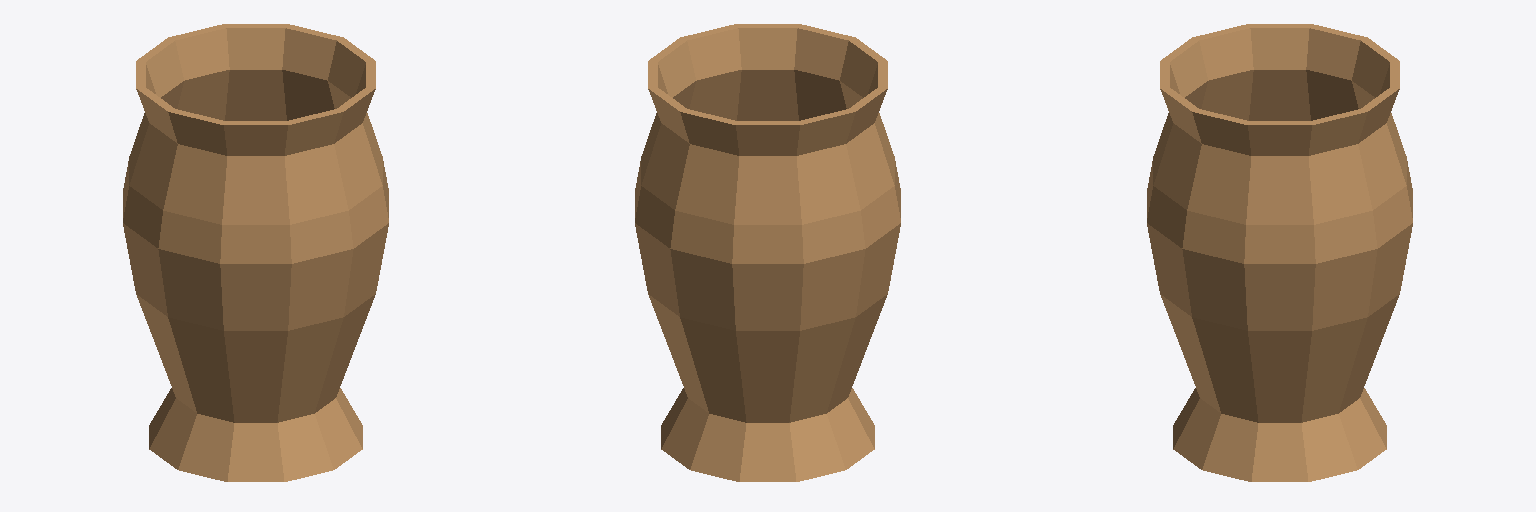
The model's file is Prop_Vase.obj.
3 views of the same model, side by side, from view 1: azimuth 30°, elevation 25°; view 2: azimuth 150°, elevation 25°; view 3: azimuth 270°, elevation 25° (orthographic).
Parts seen in each view (by area): view 1: object1; view 2: object1; view 3: object1.
Boxes of the visible parts, x1=… form: object1: x1=123, y1=24, x2=388, y2=481; object1: x1=635, y1=24, x2=900, y2=481; object1: x1=1147, y1=24, x2=1412, y2=481.
Size of the model in its own units: 0.25 by 0.375 by 0.25.